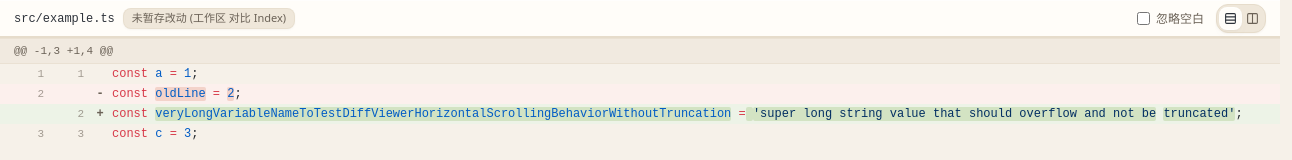
Test: DiffViewer › switches layout between unified and split views using toolbar buttons
# Click split button
Click the button titled "左右分栏对比视图 (Split)" at (1252,18), box x1=1242 y1=8 x2=1263 y2=29
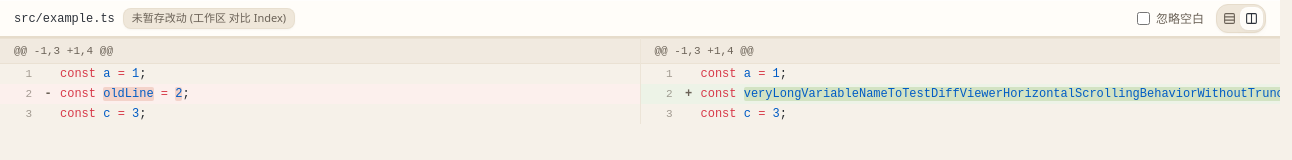
expect the element with test id "diff-split-left" is shown: met, box x1=0 y1=38 x2=640 y2=124
expect the element with test id "diff-split-right" is shown: met, box x1=640 y1=38 x2=1280 y2=124
# Click unified button
Click the button titled "统一视图 (Unified)" at (1230,18), box x1=1219 y1=8 x2=1240 y2=29
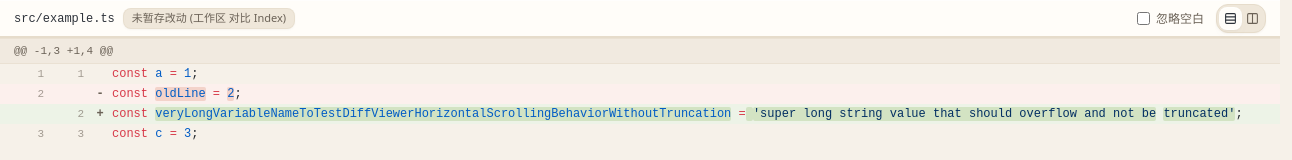
expect the element with test id "diff-split-left" is gone: met
